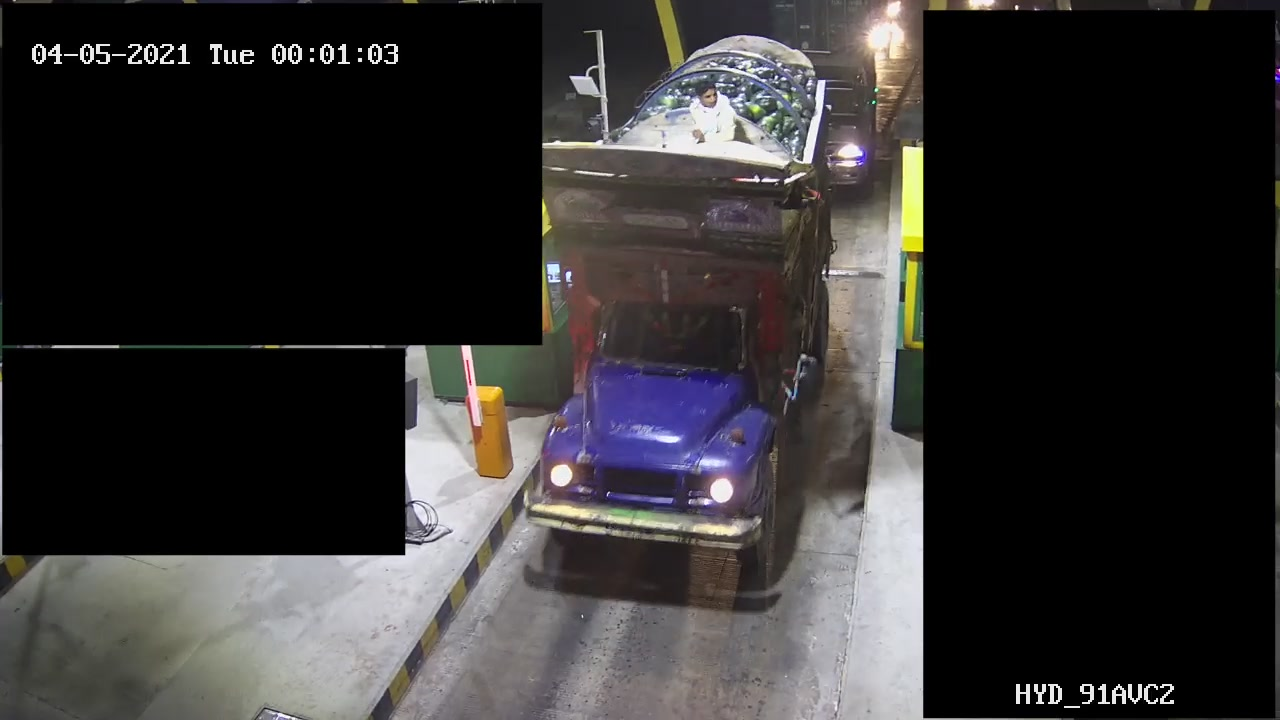F5: (504, 37, 837, 582)
